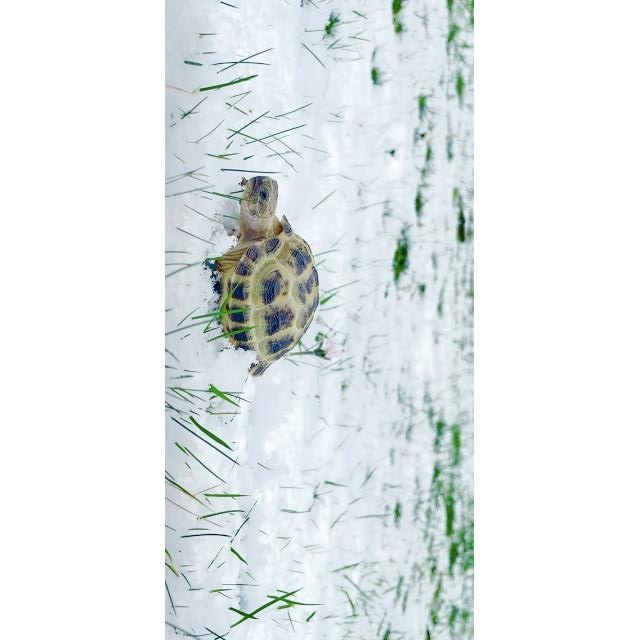turtle: (206, 175, 320, 379)
